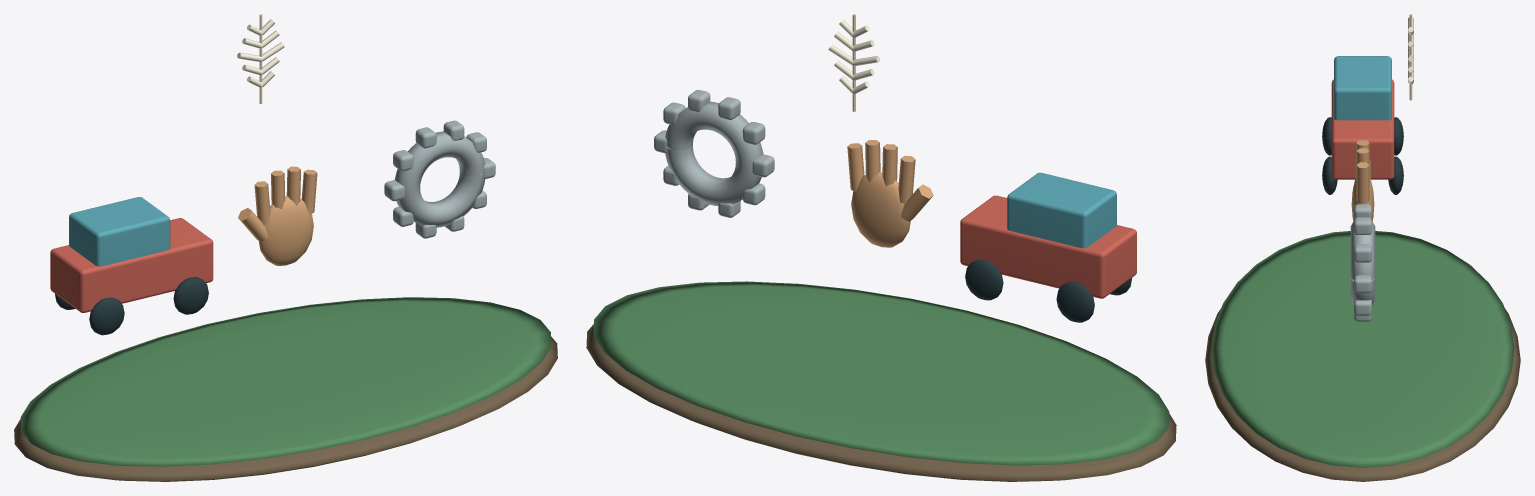
Rendered from complete-third-hand-work-light-car.glb.
The picture shows the model from 3 angles, left to right: view 1: azimuth 30°, elevation 25°; view 2: azimuth 150°, elevation 25°; view 3: azimuth 270°, elevation 25°; orthographic projection. The views are drawn at different scales.
Parts seen in each view (by area): view 1: complete-third-hand-work-light-car_surface_01, complete-third-hand-work-light-car_surface_00, complete-third-hand-work-light-car_surface_02, complete-third-hand-work-light-car_surface_06, complete-third-hand-work-light-car_surface_03, complete-third-hand-work-light-car_surface_05, complete-third-hand-work-light-car_surface_04, complete-third-hand-work-light-car_surface_08; view 2: complete-third-hand-work-light-car_surface_01, complete-third-hand-work-light-car_surface_00, complete-third-hand-work-light-car_surface_02, complete-third-hand-work-light-car_surface_06, complete-third-hand-work-light-car_surface_03, complete-third-hand-work-light-car_surface_05, complete-third-hand-work-light-car_surface_04, complete-third-hand-work-light-car_surface_08; view 3: complete-third-hand-work-light-car_surface_01, complete-third-hand-work-light-car_surface_00, complete-third-hand-work-light-car_surface_03, complete-third-hand-work-light-car_surface_02, complete-third-hand-work-light-car_surface_06, complete-third-hand-work-light-car_surface_04, complete-third-hand-work-light-car_surface_05, complete-third-hand-work-light-car_surface_08.
Boxes of the visible parts, x1,y1,x2,y2 form: complete-third-hand-work-light-car_surface_01: [20, 297, 551, 466]; complete-third-hand-work-light-car_surface_00: [14, 336, 557, 481]; complete-third-hand-work-light-car_surface_02: [50, 218, 213, 312]; complete-third-hand-work-light-car_surface_06: [384, 120, 495, 238]; complete-third-hand-work-light-car_surface_03: [69, 197, 170, 266]; complete-third-hand-work-light-car_surface_05: [238, 166, 317, 265]; complete-third-hand-work-light-car_surface_04: [55, 277, 208, 335]; complete-third-hand-work-light-car_surface_08: [237, 19, 284, 87]; complete-third-hand-work-light-car_surface_01: [593, 281, 1169, 465]; complete-third-hand-work-light-car_surface_00: [586, 324, 1176, 481]; complete-third-hand-work-light-car_surface_02: [960, 195, 1136, 298]; complete-third-hand-work-light-car_surface_06: [654, 90, 774, 217]; complete-third-hand-work-light-car_surface_03: [1007, 172, 1116, 248]; complete-third-hand-work-light-car_surface_05: [847, 140, 933, 247]; complete-third-hand-work-light-car_surface_04: [965, 259, 1131, 322]; complete-third-hand-work-light-car_surface_08: [828, 20, 879, 93]; complete-third-hand-work-light-car_surface_01: [1211, 231, 1514, 467]; complete-third-hand-work-light-car_surface_00: [1205, 309, 1520, 481]; complete-third-hand-work-light-car_surface_03: [1334, 56, 1391, 120]; complete-third-hand-work-light-car_surface_02: [1331, 79, 1394, 179]; complete-third-hand-work-light-car_surface_06: [1350, 204, 1375, 321]; complete-third-hand-work-light-car_surface_04: [1322, 117, 1403, 194]; complete-third-hand-work-light-car_surface_05: [1351, 140, 1374, 221]; complete-third-hand-work-light-car_surface_08: [1408, 17, 1413, 84].
Bounding box in the file's own units: 4.56 × 3.15 × 2.5.
